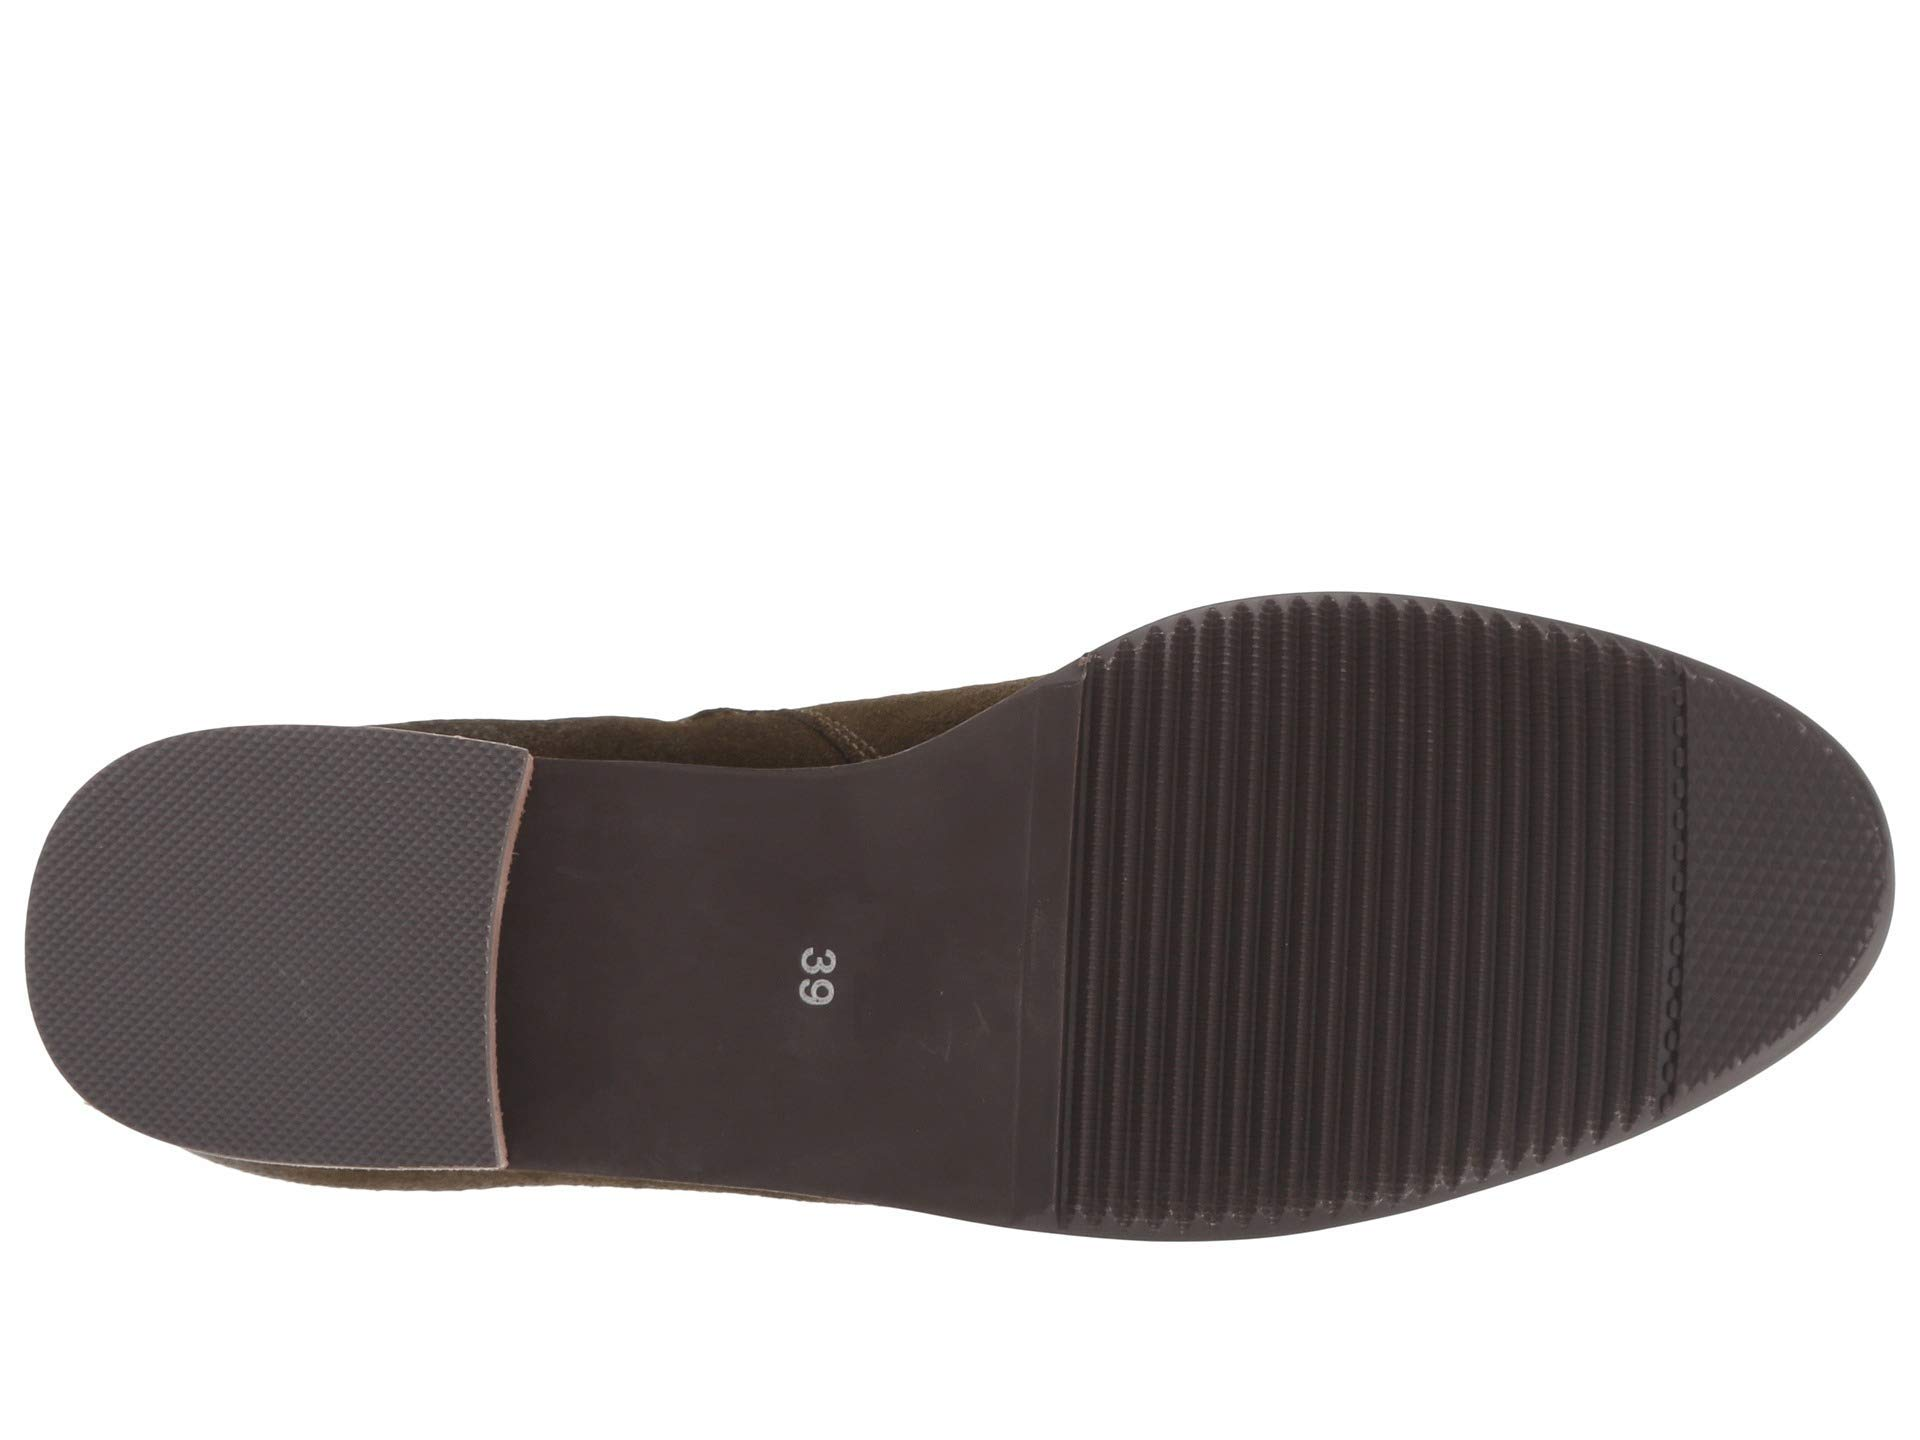circle: (1639, 676, 1819, 1066)
line: (1166, 628, 1556, 1106), (1639, 676, 1819, 1066)
quad: (106, 790, 434, 1112)
text: (738, 897, 903, 1051)
